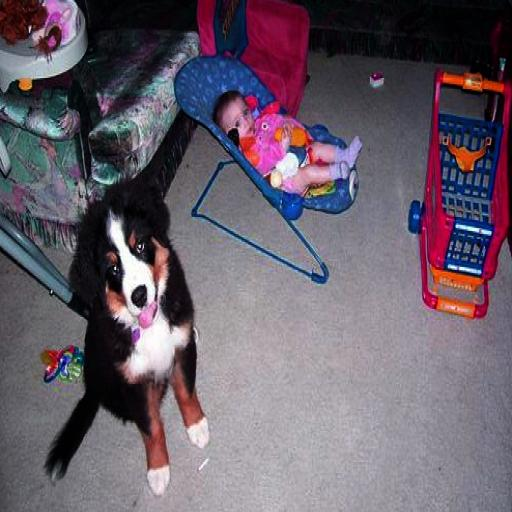dog_face: (78, 192, 168, 326)
